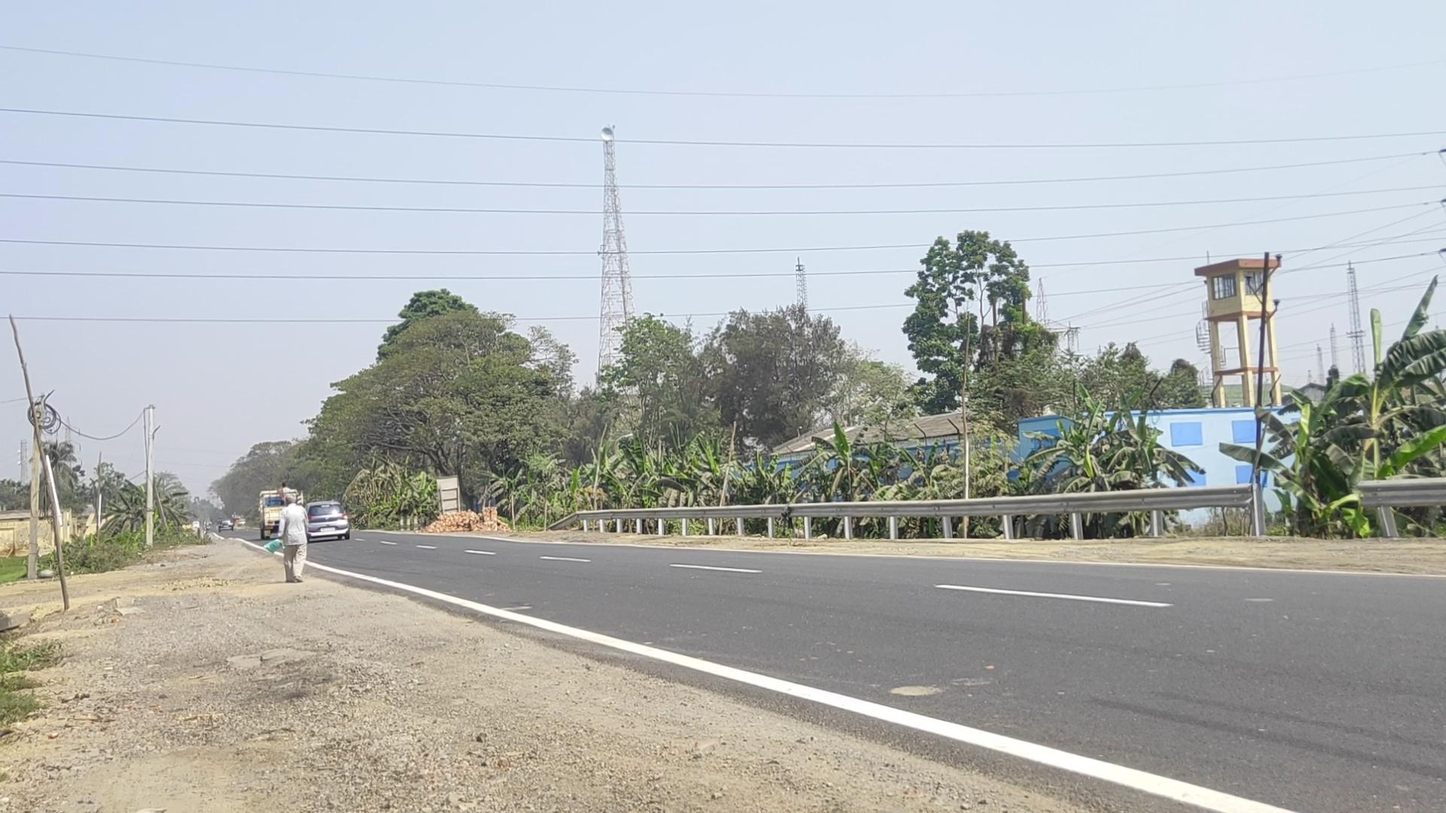car: (303, 501, 350, 544)
van: (258, 482, 304, 540)
